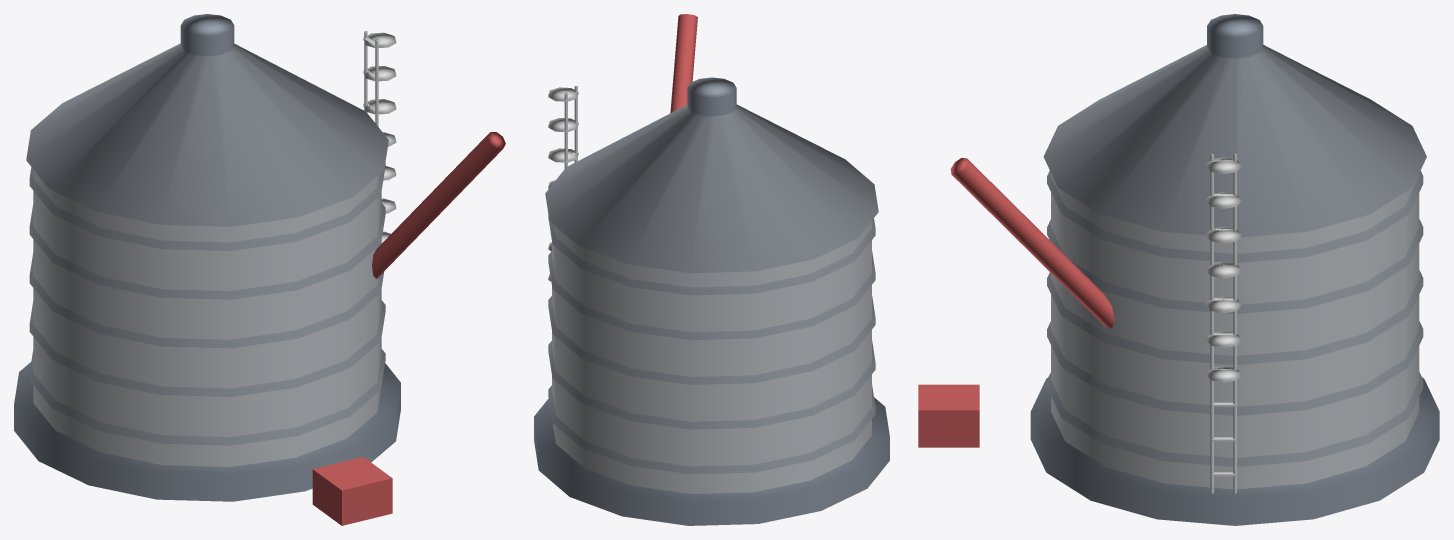
Rendered from grain-bin.glb.
3 renders of one model, left to right at view 1: azimuth 30°, elevation 25°; view 2: azimuth 150°, elevation 25°; view 3: azimuth 270°, elevation 25°, orthographic. The views are drawn at different scales.
Parts seen in each view (by area): view 1: Root; view 2: Root; view 3: Root.
Part boxes in pixels (x1,y1,x2,y2): Root: (14, 14, 505, 525); Root: (534, 14, 889, 525); Root: (918, 14, 1439, 525).
Bounding box in the file's own units: 8.3 × 8.93 × 10.2.
